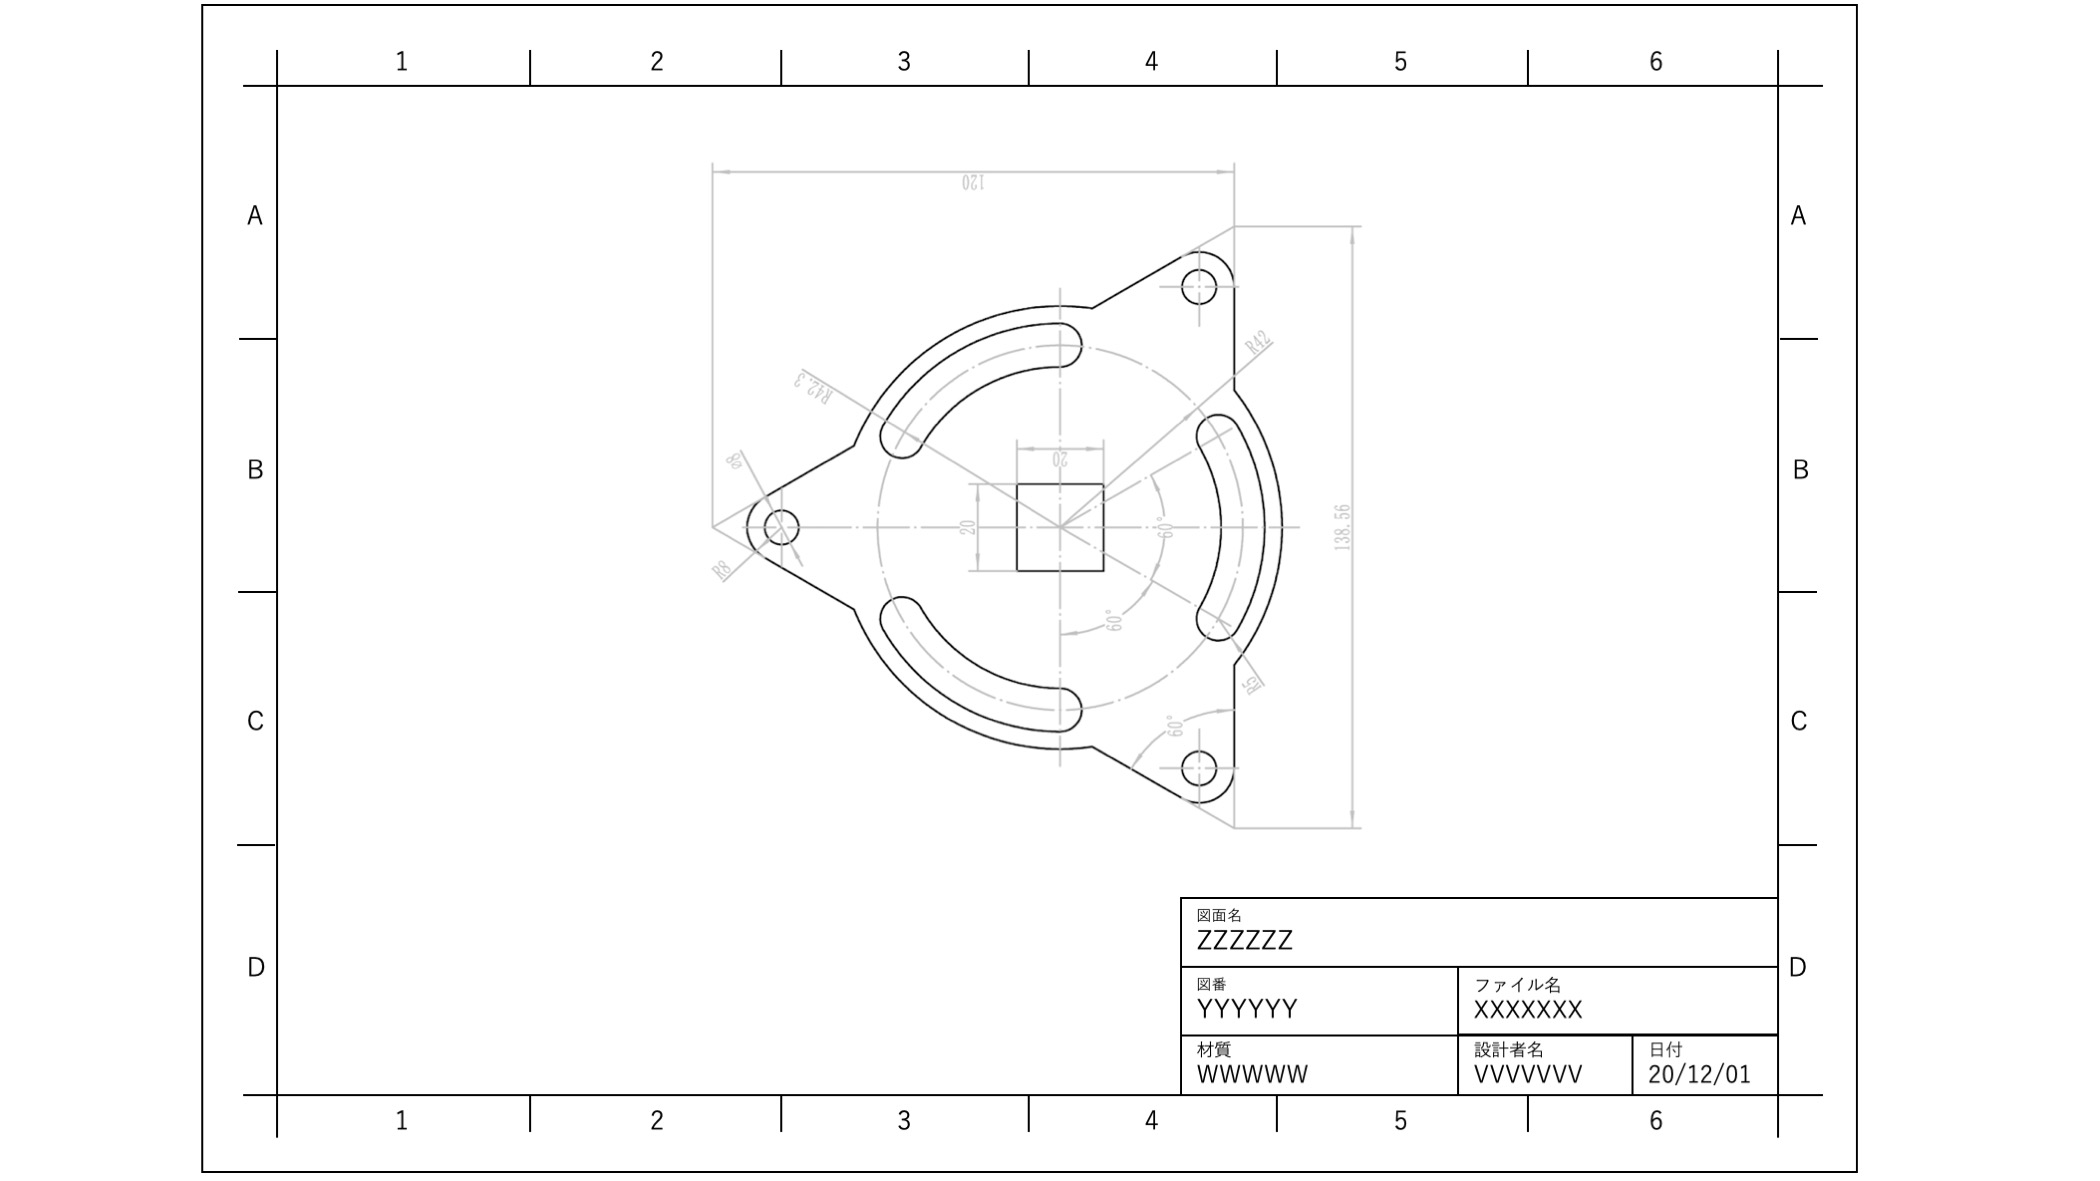circle: (1171, 257, 1226, 313), (756, 497, 803, 557), (1167, 740, 1219, 787)
rectangle: (1007, 474, 1109, 580)
round_rectangle: (878, 593, 1092, 744), (865, 317, 1082, 464), (1188, 407, 1271, 645)
